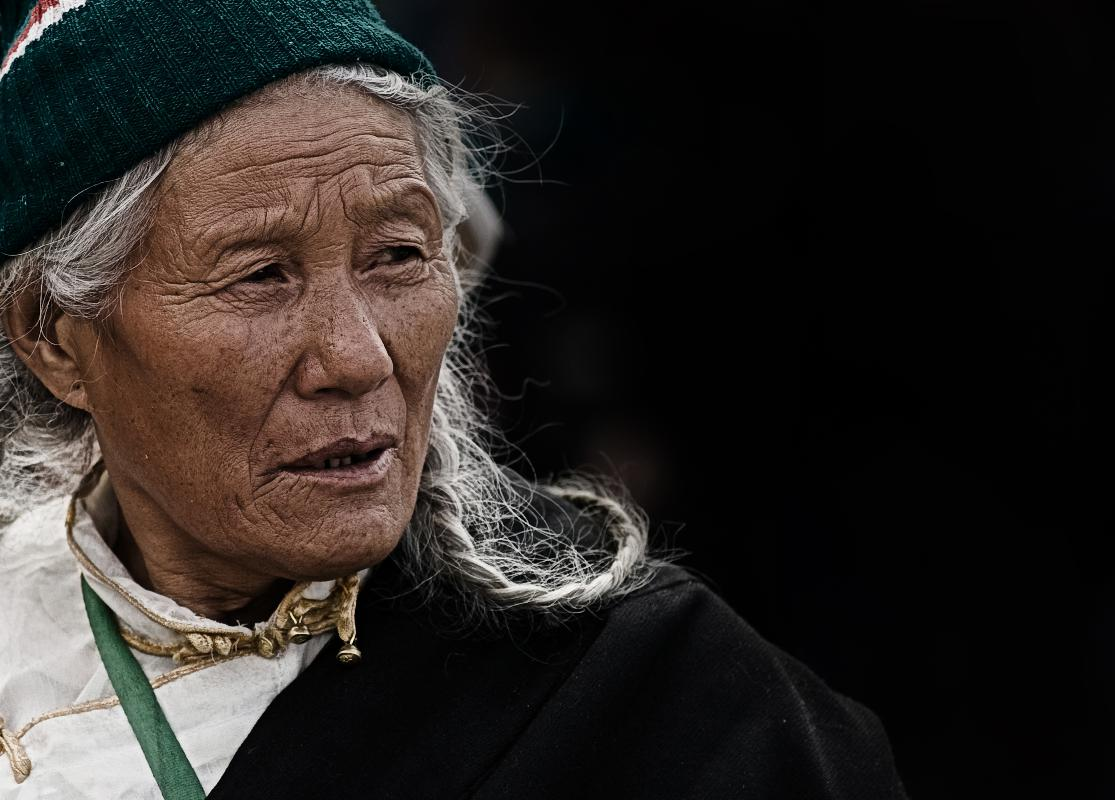Person: (10, 13, 810, 800)
